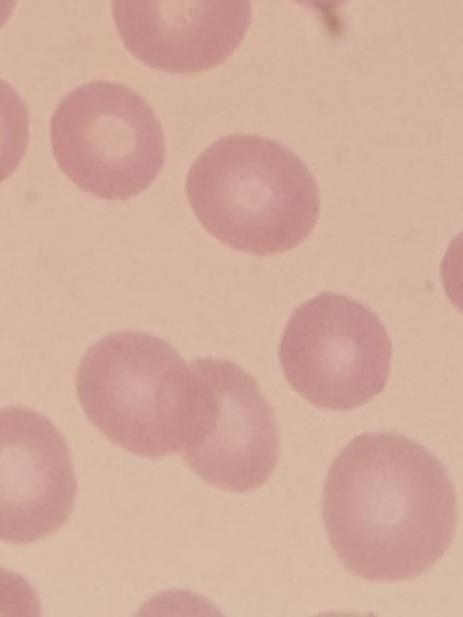Uninfected: (327, 427, 452, 580), (75, 329, 214, 456), (155, 356, 276, 493), (185, 134, 319, 257), (277, 291, 394, 418), (52, 81, 162, 203), (113, 0, 253, 78), (0, 411, 74, 550)
